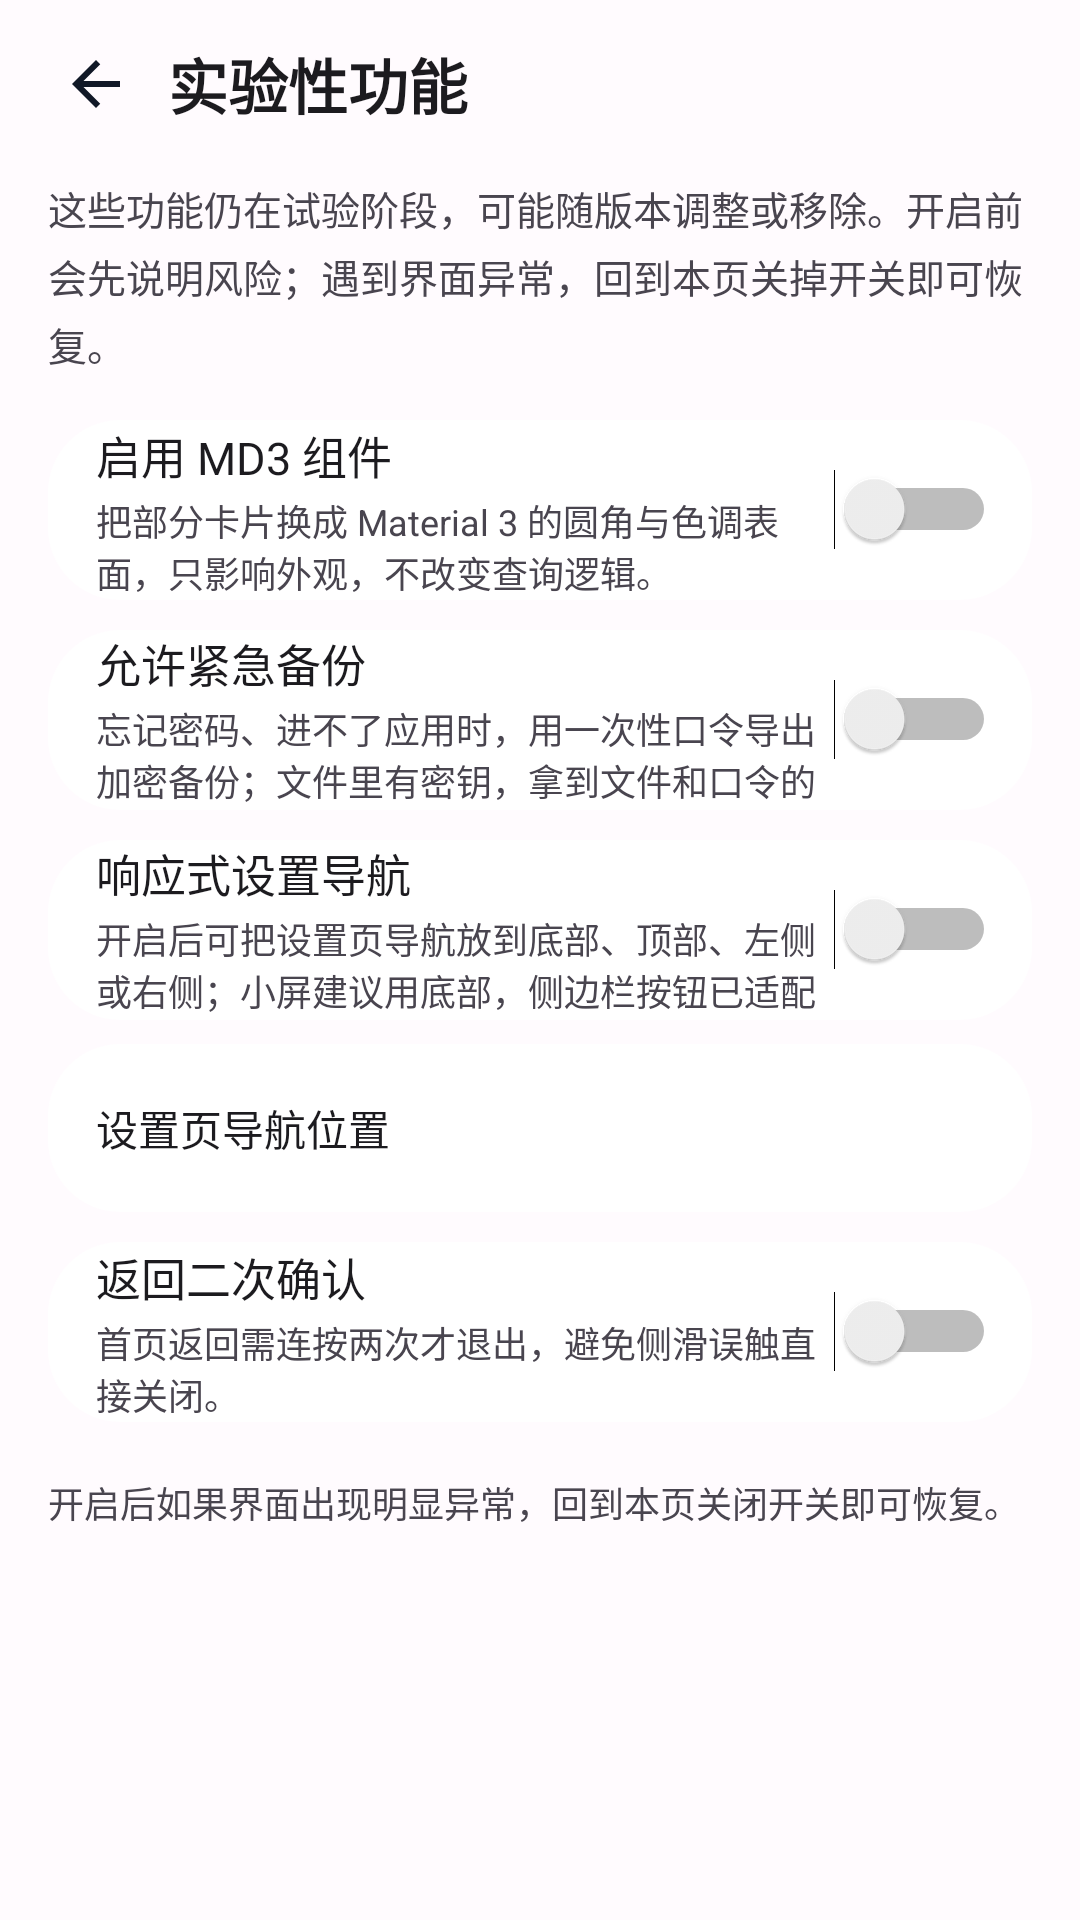

Icon click points for this 1080w x 1920h phone screenshot, format (x,y):
arrow back: (96,84)
